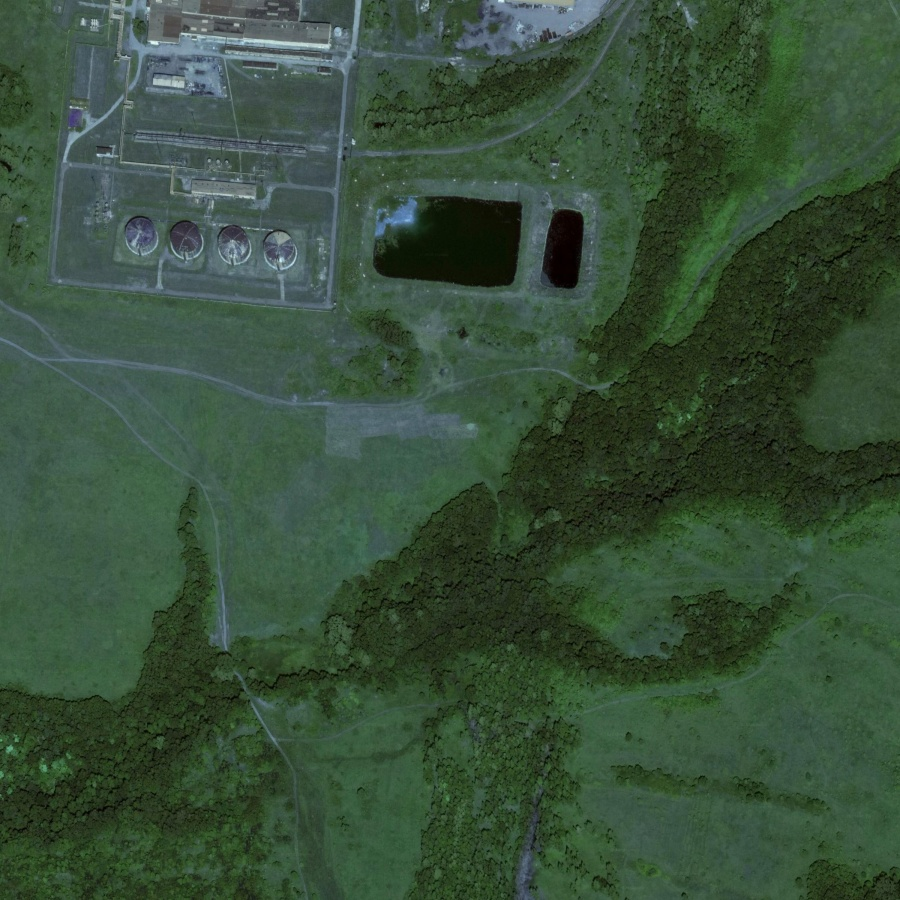PowerPlant: (118, 165, 328, 331), (363, 182, 597, 309)
